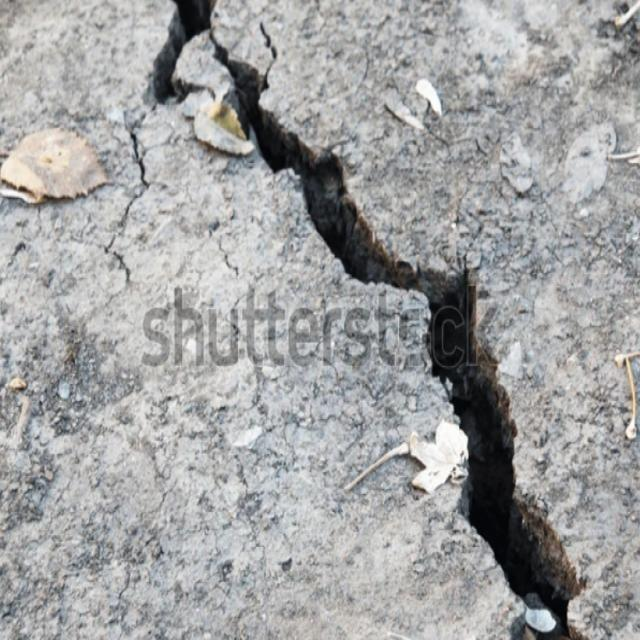branched cracks: (124, 112, 148, 187), (119, 190, 142, 235), (112, 250, 130, 282)
